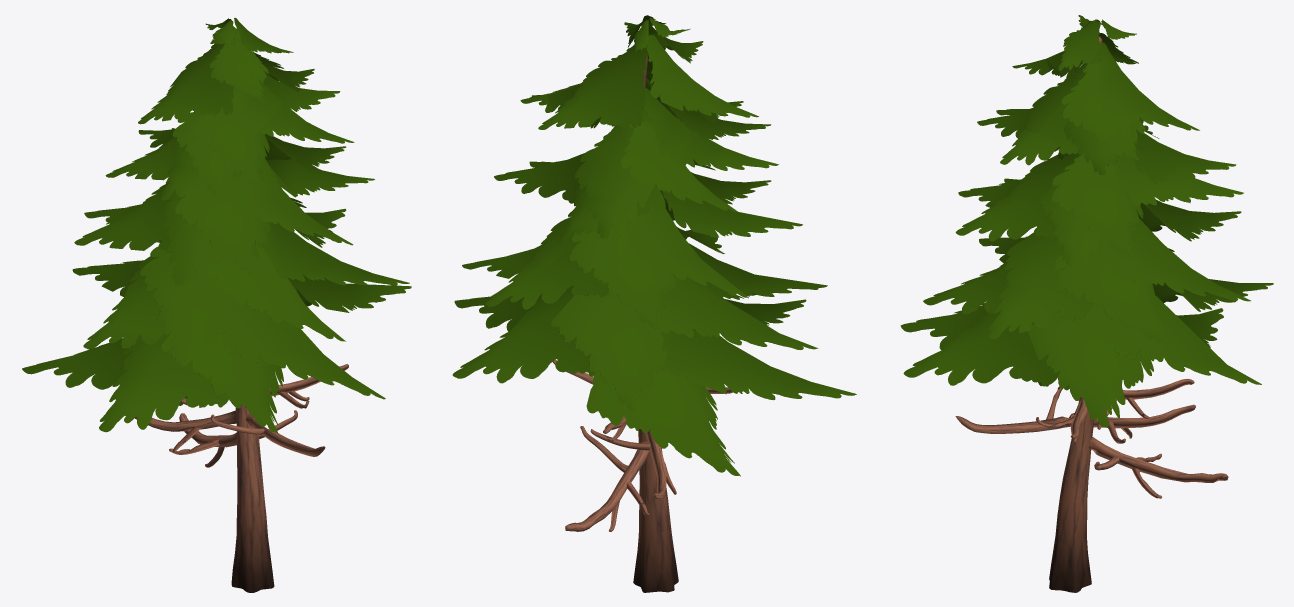
The model's file is nature-pine-1.glb.
The picture shows the model from 3 angles, left to right: view 1: azimuth 30°, elevation 25°; view 2: azimuth 150°, elevation 25°; view 3: azimuth 270°, elevation 25°; orthographic projection. The views are drawn at different scales.
Parts seen in each view (by area): view 1: Pine_1; view 2: Pine_1; view 3: Pine_1.
Boxes of the visible parts, bbox=[...] form: Pine_1: bbox=[22, 18, 411, 592]; Pine_1: bbox=[452, 15, 856, 592]; Pine_1: bbox=[900, 15, 1273, 592].
Size of the model in its own units: 4.94 by 7.32 by 4.54.
Materials: 2 (2 with a texture image).
